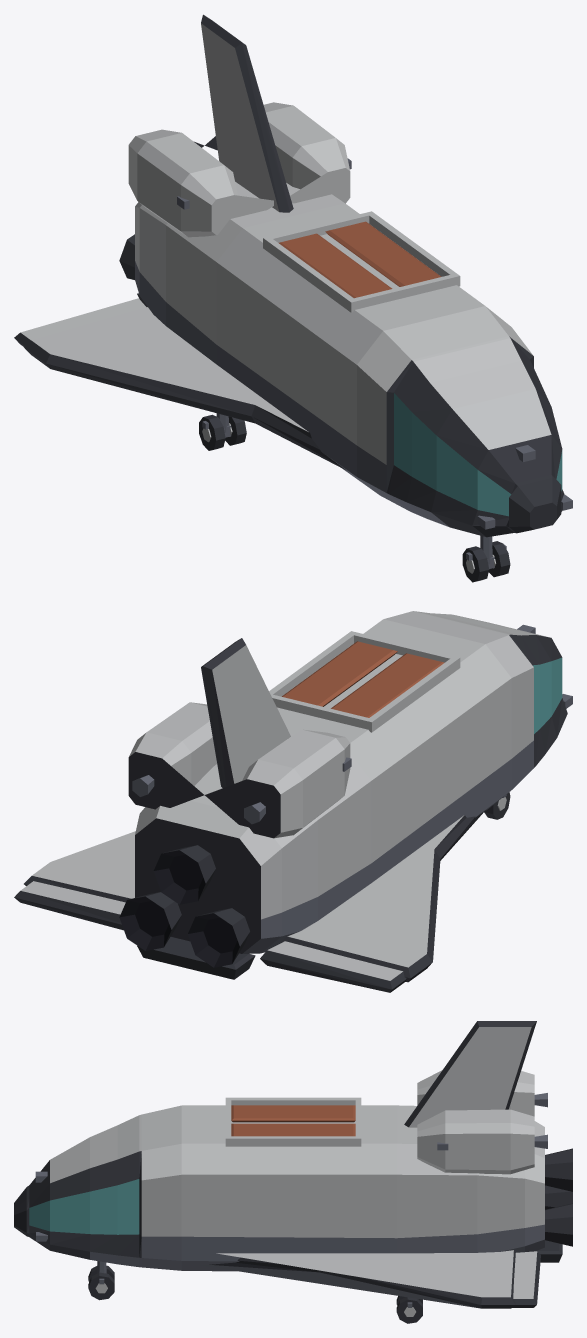
File: cargo-shuttle-7907d0.glb
3 renders of one model, top to bottom at view 1: azimuth 30°, elevation 25°; view 2: azimuth 150°, elevation 25°; view 3: azimuth 270°, elevation 25°, orthographic. The views are drawn at different scales.
Visible parts, largest first — view 1: hull, cargo-hatch-panel, wheel-nose-mesh, wheel-l-mesh; view 2: hull, cargo-hatch-panel; view 3: hull, cargo-hatch-panel, wheel-nose-mesh, wheel-r-mesh.
Part boxes in pixels (left/top/right/bottom): hull: left=14, top=14, right=572, bottom=537; cargo-hatch-panel: left=279, top=221, right=441, bottom=298; wheel-nose-mesh: left=462, top=541, right=510, bottom=582; wheel-l-mesh: left=199, top=414, right=246, bottom=450; hull: left=14, top=611, right=572, bottom=992; cargo-hatch-panel: left=282, top=641, right=444, bottom=717; hull: left=14, top=1021, right=572, bottom=1308; cargo-hatch-panel: left=231, top=1105, right=355, bottom=1136; wheel-nose-mesh: left=88, top=1265, right=114, bottom=1300; wheel-r-mesh: left=396, top=1296, right=422, bottom=1323.
Bounding box in the file's own units: 4.3 × 3.78 × 7.
